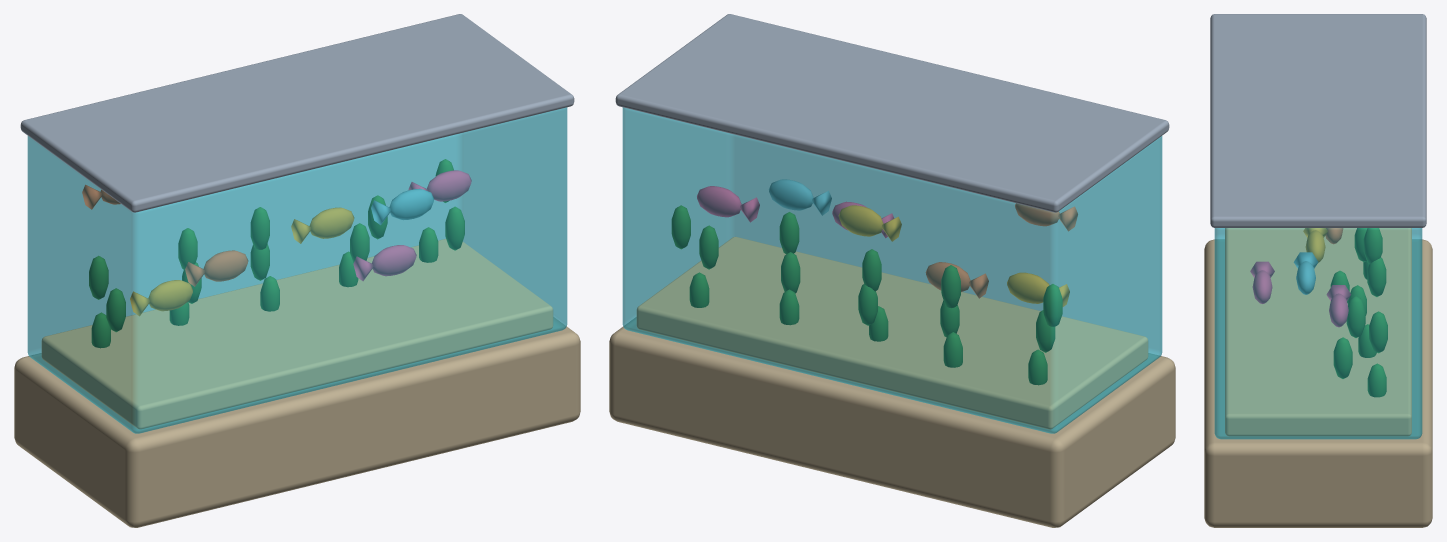
The model's file is tank.glb.
3 views of the same model, side by side, from view 1: azimuth 30°, elevation 25°; view 2: azimuth 150°, elevation 25°; view 3: azimuth 270°, elevation 25° (orthographic). The views are drawn at different scales.
Visible parts, largest first — view 1: tank; view 2: tank; view 3: tank.
Boxes of the visible parts, bbox=[...] form: tank: bbox=[14, 14, 580, 527]; tank: bbox=[609, 14, 1175, 527]; tank: bbox=[1204, 14, 1432, 527].
Size of the model in its own units: 2.4 by 1.65 by 1.1.
